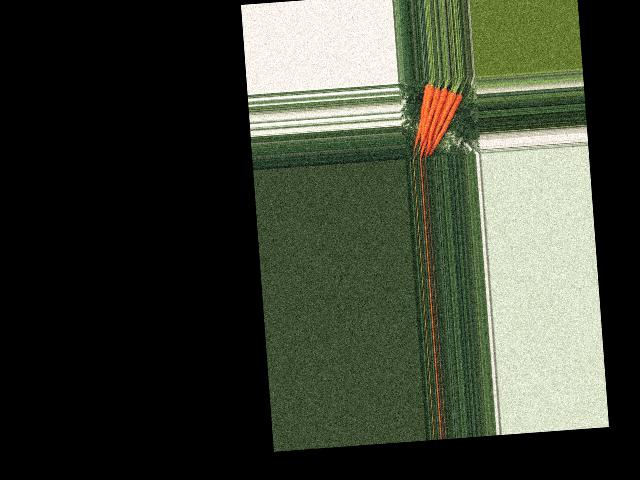carrot: (406, 82, 438, 155)
